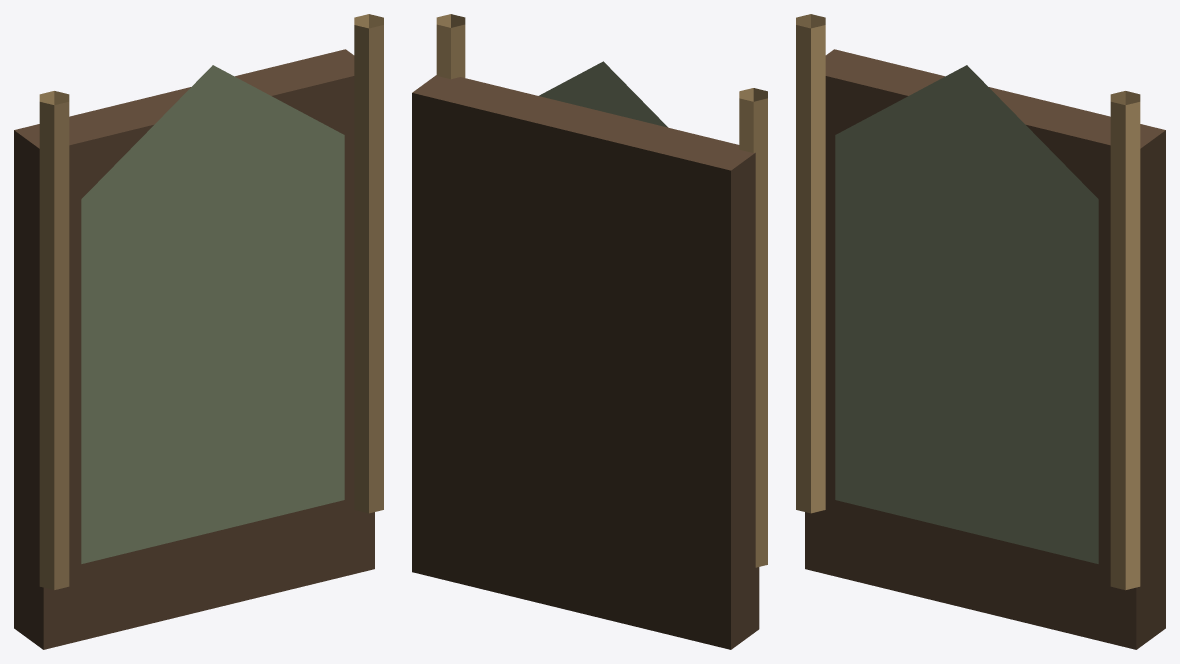
3 views of the same model, side by side, from view 1: azimuth 30°, elevation 25°; view 2: azimuth 150°, elevation 25°; view 3: azimuth 330°, elevation 25° (orthographic). The views are drawn at different scales.
Parts seen in each view (by area): view 1: 27655a524457369f1eae95b1c5398463ae6d0f946100c7f34499737f78ed; view 2: 27655a524457369f1eae95b1c5398463ae6d0f946100c7f34499737f78ed; view 3: 27655a524457369f1eae95b1c5398463ae6d0f946100c7f34499737f78ed.
Boxes of the visible parts, box(x1,y1,x2,y2) form: 27655a524457369f1eae95b1c5398463ae6d0f946100c7f34499737f78ed: box(14, 14, 383, 649); 27655a524457369f1eae95b1c5398463ae6d0f946100c7f34499737f78ed: box(412, 14, 767, 649); 27655a524457369f1eae95b1c5398463ae6d0f946100c7f34499737f78ed: box(796, 14, 1165, 649).
Bounding box in the file's own units: 0.81 × 1.24 × 0.1603.
Materials: 3 (1 with a texture image).
